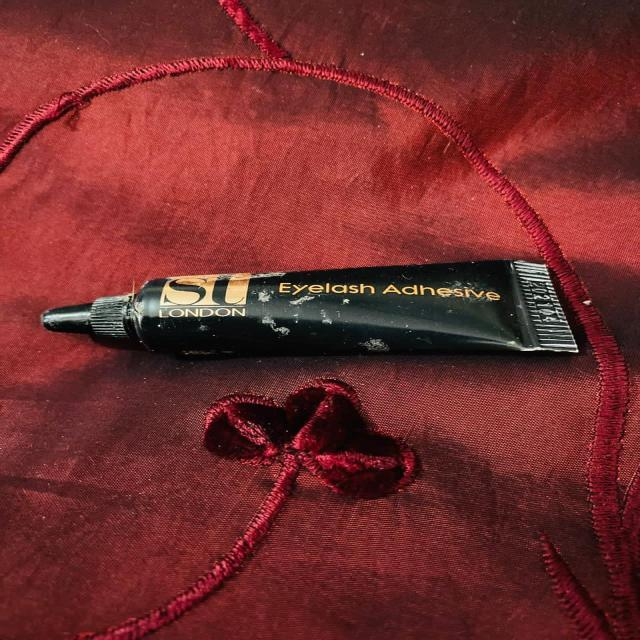primer: (23, 245, 609, 382)
